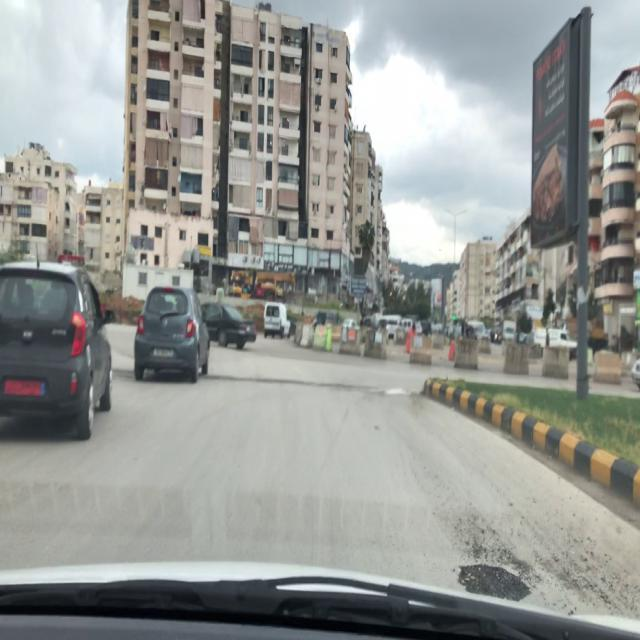pothole: (449, 561, 533, 602)
